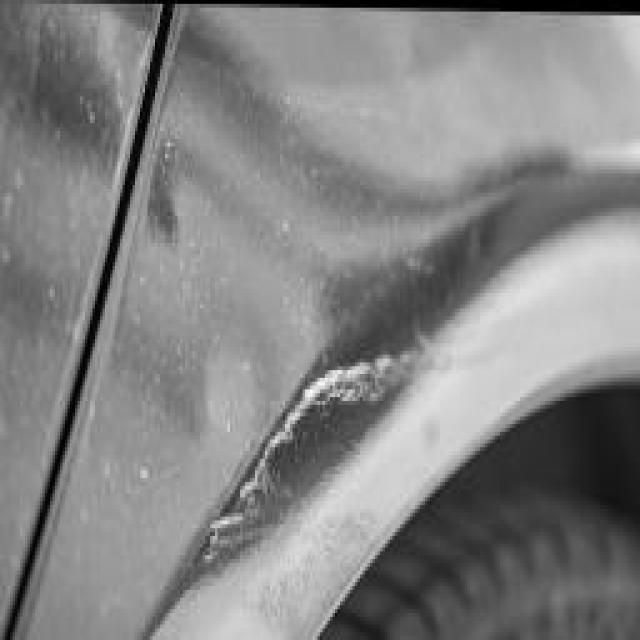Fender: (30, 104, 578, 639)
